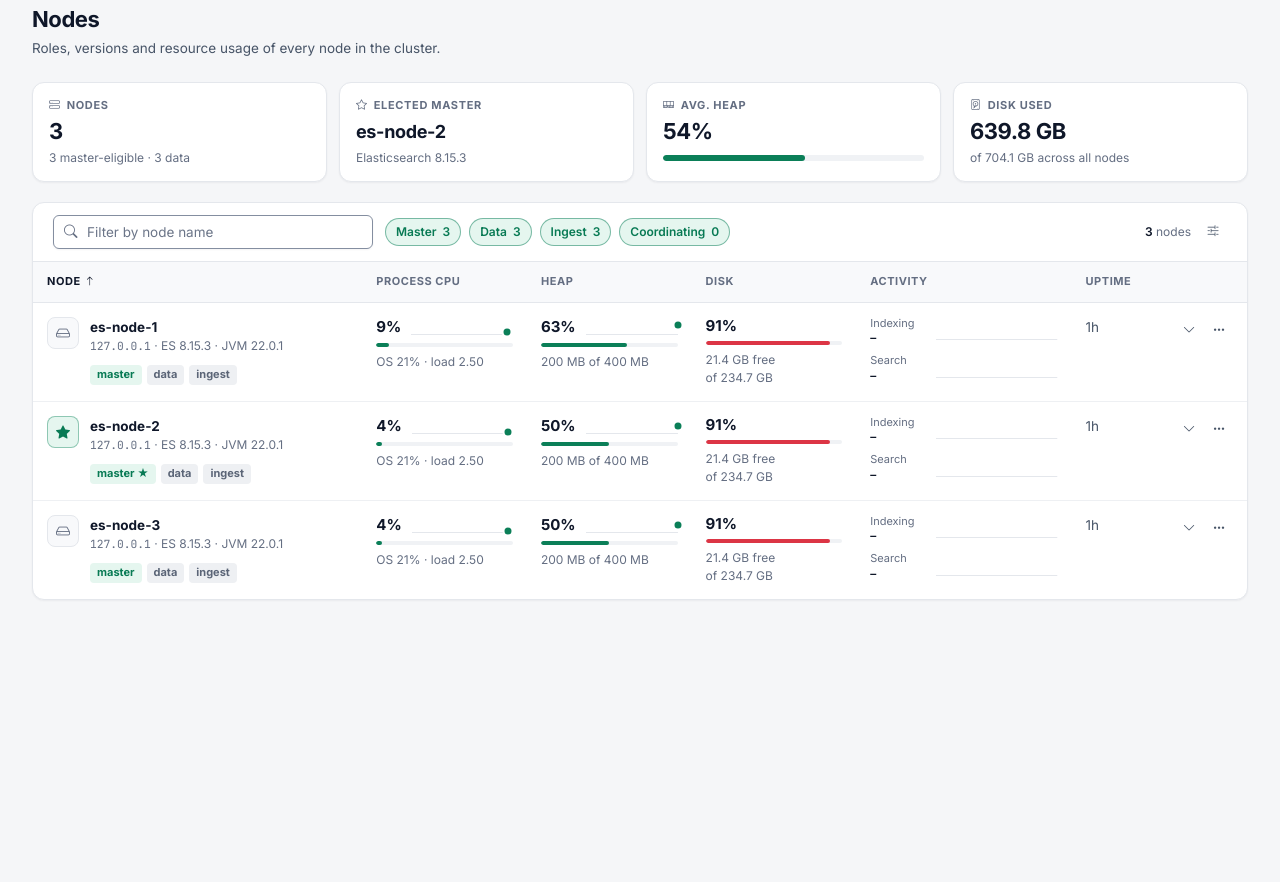
Test case: NodesComponent › mirrors the expanded node in the URL without reacting to its own echo
Click the button named "Show live activity of es-node-1" at (1189, 330), box [1175,316,1203,344]
(page scrolled)
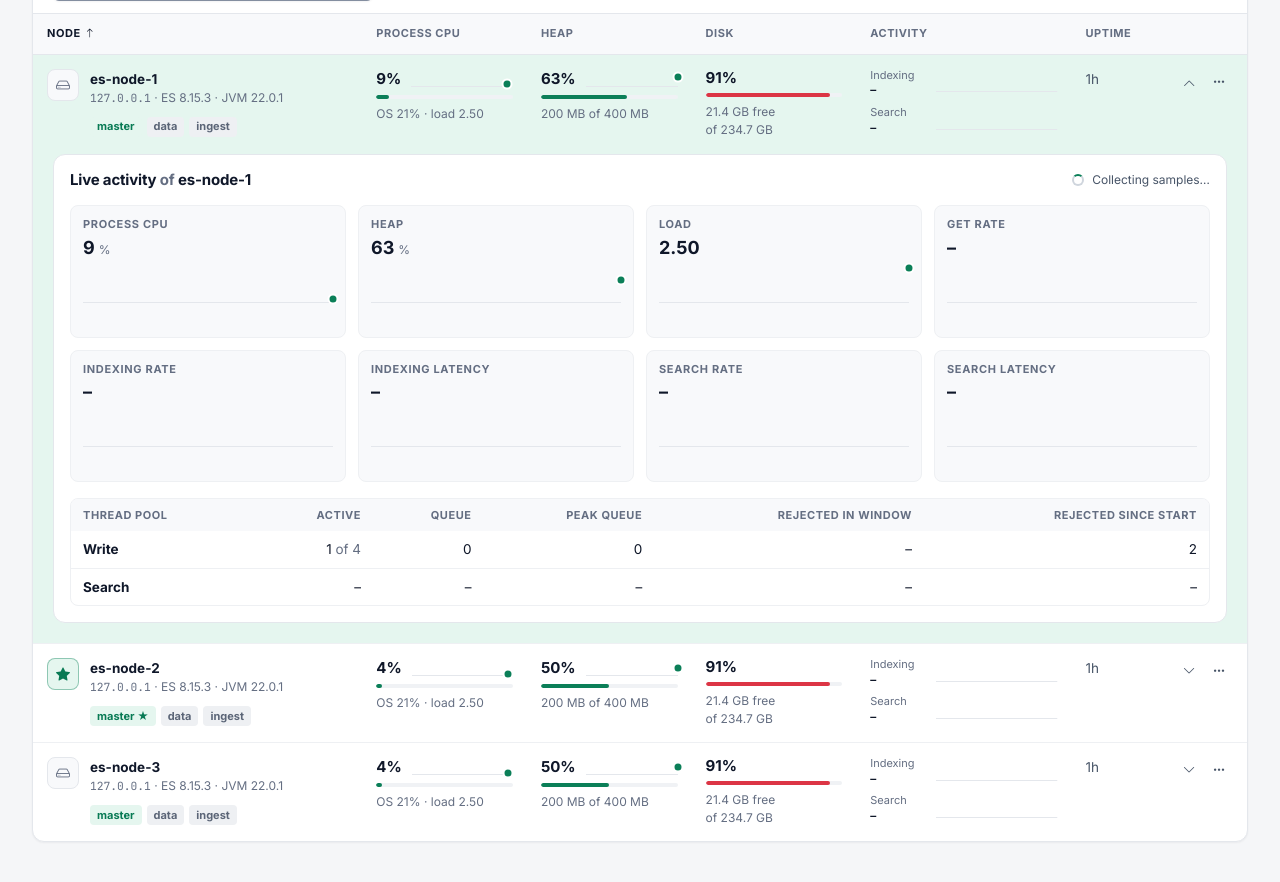
Expected: the text "es-node-1" is shown, [90,70,157,86]
Expected: the cell with id "node-detail-id-1" is shown, [33,153,1247,643]
Note: Opening another node closes the first one.
Click the button named "Show live activity of es-node-3" at (1189, 771), box [1175,757,1203,785]
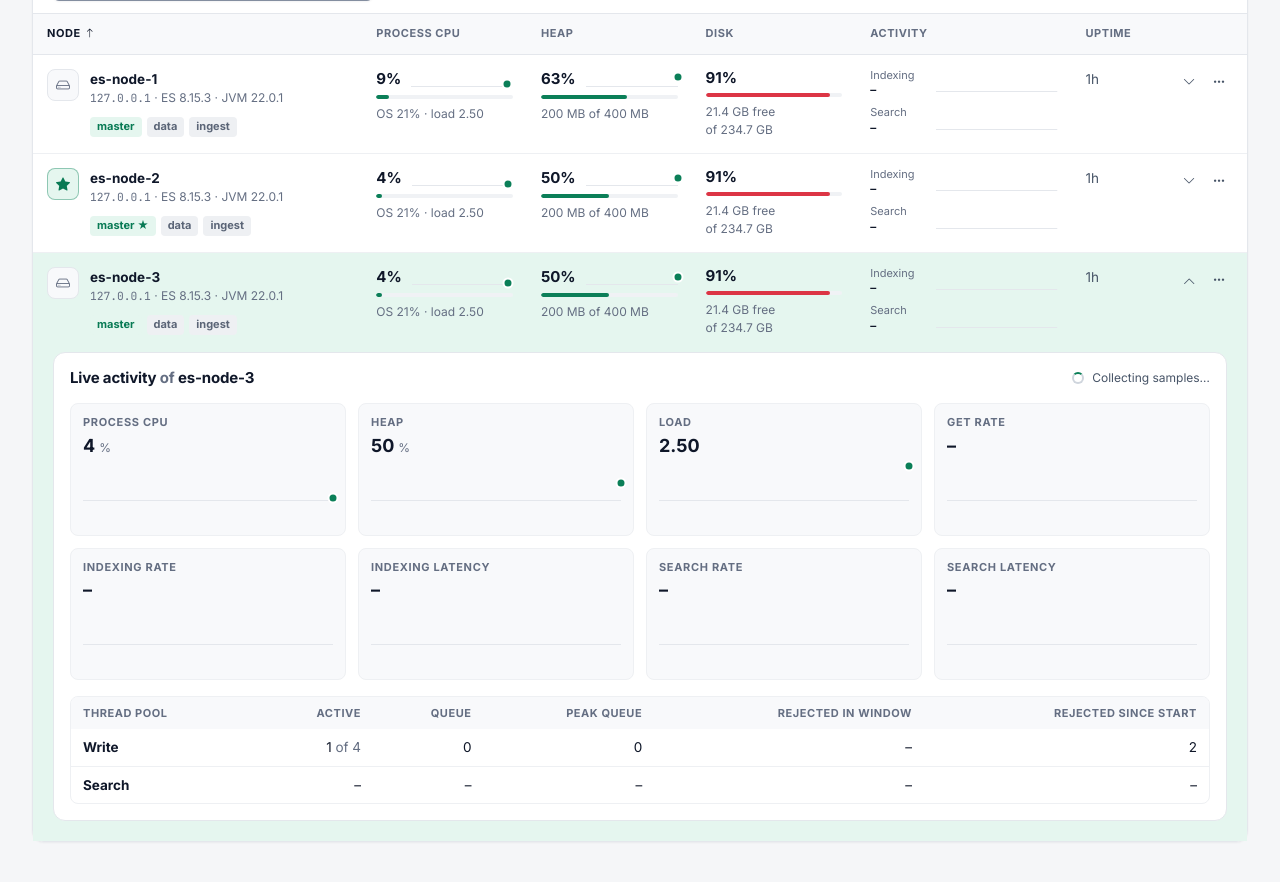
Expected: the cell with id "node-detail-id-3" is shown, [33,351,1247,841]
Expected: the cell with id "node-detail-id-1" is gone
Click the button named "Hide live activity of es-node-3" at (1189, 280), box [1175,266,1203,294]
(page scrolled)
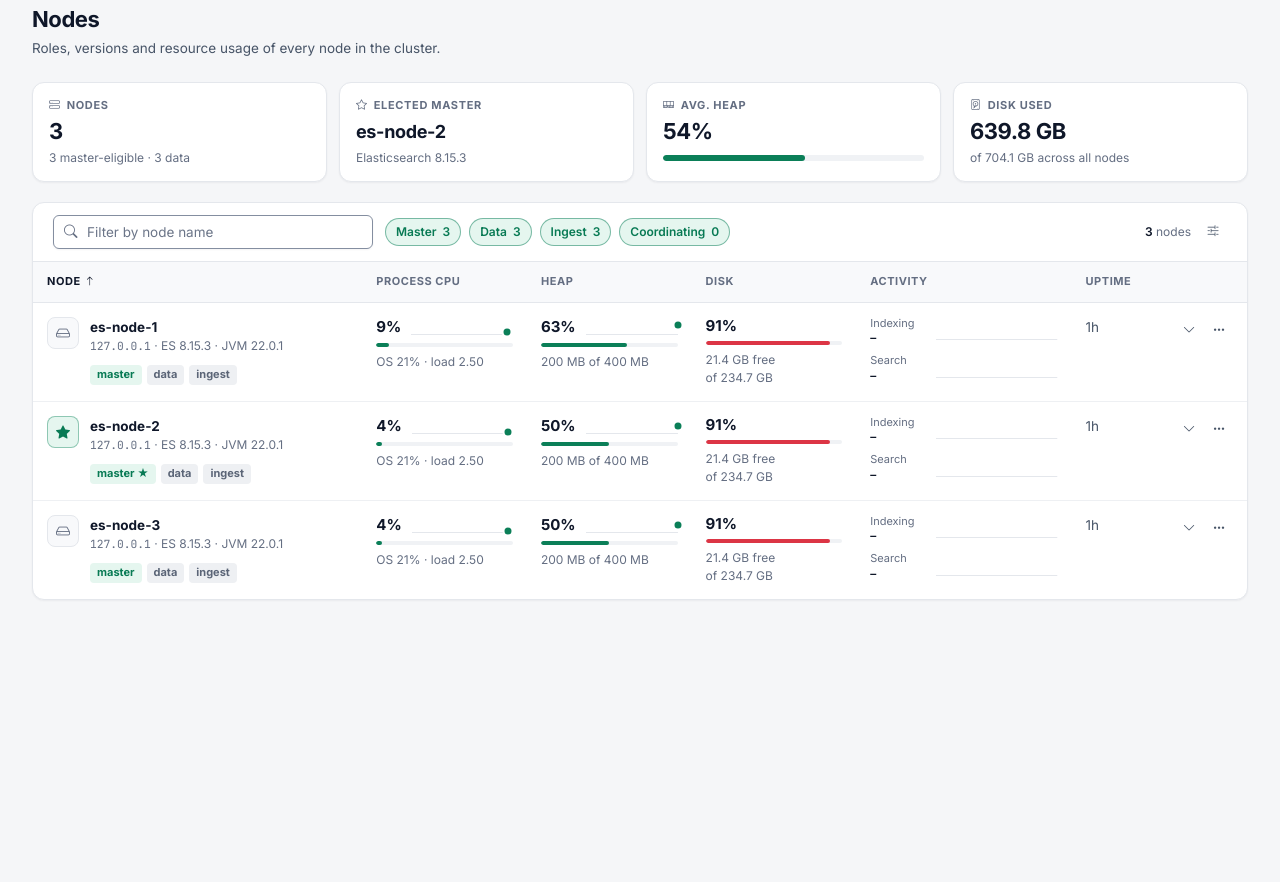
Expected: the row with class "node-detail-row" is gone
